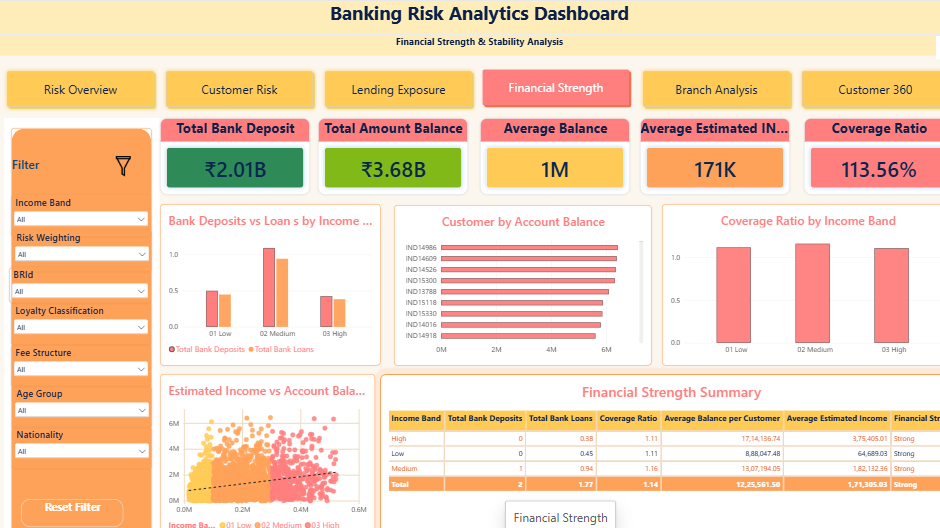

The dashboard page shown, as its layout file describes it:
{"tool":"powerbi","page":{"name":"Financial Strength","canvas":[1920,1080],"ordinal":3},"visuals":[{"type":"shape","box":[0,0,1920,110.9],"z":0},{"type":"pageNavigator","box":[9.8,133.5,1894.9,88.4],"z":1000},{"type":"shape","box":[12,236,310,844],"z":2000},{"type":"shape","box":[26.8,256,280.8,823.7],"z":3000},{"type":"clusteredColumnChart","title":"Bank Deposits vs Loan s by Income Band","fields":{"Category":["Banking.Income Band Ordered"],"Y":["Measure.Total Bank Deposits","Measure.Total Bank Loans"]},"box":[322.1,406.7,439.7,322.1],"z":4000},{"type":"columnChart","title":"Coverage Ratio by Income Band","fields":{"Category":["Banking.Income Band Ordered"],"Y":["Measure.Coverage Ratio"]},"box":[1323.4,406.7,582.2,322.1],"z":5000},{"type":"scatterChart","title":"Estimated Income vs Account Balance","fields":{"Series":["Banking.Income Band Ordered"],"X":["Banking.Estimated Income"],"Y":["Banking.Customer Account Balance"]},"box":[322.1,745.3,429.4,334.5],"z":6000},{"type":"clusteredBarChart","title":"Customer by Account Balance","fields":{"Category":["Banking.Client ID"],"Y":["Sum(Banking.Customer Account Balance)"]},"box":[788.6,408.8,514.1,320],"z":7000},{"type":"image","box":[210.6,311.7,76.4,41.3],"z":8000},{"type":"actionButton","title":"Reset Filter","box":[45.4,995.1,204.4,55.7],"z":9000},{"type":"textbox","box":[0,0,1920,70],"z":10000},{"type":"textbox","box":[28.9,291.1,274.6,61.9],"z":11000},{"type":"textbox","box":[0,70,1920,40],"z":12000},{"type":"slicer","fields":{"Values":["Banking.Nationality"]},"box":[28.9,850.6,278.7,82.6],"z":13000},{"type":"slicer","fields":{"Values":["Banking.Age Group"]},"box":[28.9,770.1,278.7,82.6],"z":14000},{"type":"slicer","fields":{"Values":["Banking.Income Band"]},"box":[26.8,388.1,278.7,82.6],"z":15000},{"type":"slicer","fields":{"Values":["Banking.Risk Weighting"]},"box":[28.9,458.3,278.7,82.6],"z":16000},{"type":"slicer","fields":{"Values":["Banking.Fee Structure"]},"box":[26.8,687.5,278.7,82.6],"z":17000},{"type":"slicer","fields":{"Values":["Banking.BRId"]},"box":[22.7,532.6,282.8,72.3],"z":18000},{"type":"slicer","fields":{"Values":["Banking.Loyalty Classification"]},"box":[26.8,604.9,278.7,82.6],"z":19000},{"type":"cardVisual","title":"Total Bank Deposit","fields":{"Data":["Measure.Total Bank Deposits"]},"box":[322.1,235.4,299.4,152.8],"z":20000},{"type":"cardVisual","title":"Total Amount Balance","fields":{"Data":["Measure.Total Account Balance"]},"box":[637.9,235.4,299.4,152.8],"z":21000},{"type":"cardVisual","title":"Average Balance ","fields":{"Data":["Measure.Average Balance per Customer"]},"box":[960,235.4,299.4,152.8],"z":22000},{"type":"cardVisual","title":"Average Estimated INCOME","fields":{"Data":["Measure.Average Estimated Income"]},"box":[1280,235.4,299.4,152.8],"z":23000},{"type":"cardVisual","title":"Coverage Ratio","fields":{"Data":["Measure.Coverage Ratio"]},"box":[1606.2,235.4,299.4,152.8],"z":24000},{"type":"pivotTable","title":"Financial Strength Summary","fields":{"Rows":["Banking.Income Band"],"Values":["Measure.Total Bank Deposits","Measure.Total Bank Loans","Measure.Coverage Ratio","Measure.Average Balance per Customer","Measure.Average Estimated Income","Measure.Financial Strength Status"]},"box":[761.8,745.3,1158.2,334.5],"z":25000}]}

Visuals, with their boxes in screenshot pixels (x1, y1, x2, y2), scaled from the page's 1920x1080 canvas onto the 940x528 screenshot:
shape: x1=0 y1=0 x2=939 y2=54
pageNavigator: x1=5 y1=65 x2=933 y2=108
shape: x1=6 y1=115 x2=158 y2=527
shape: x1=13 y1=125 x2=151 y2=527
"Bank Deposits vs Loan s by Income Band" clusteredColumnChart: x1=158 y1=199 x2=373 y2=356
"Coverage Ratio by Income Band" columnChart: x1=648 y1=199 x2=933 y2=356
"Estimated Income vs Account Balance" scatterChart: x1=158 y1=364 x2=368 y2=527
"Customer by Account Balance" clusteredBarChart: x1=386 y1=200 x2=638 y2=356
image: x1=103 y1=152 x2=141 y2=173
"Reset Filter" actionButton: x1=22 y1=486 x2=122 y2=514
textbox: x1=0 y1=0 x2=939 y2=34
textbox: x1=14 y1=142 x2=149 y2=173
textbox: x1=0 y1=34 x2=939 y2=54
slicer - Banking.Nationality: x1=14 y1=416 x2=151 y2=456
slicer - Banking.Age Group: x1=14 y1=376 x2=151 y2=417
slicer - Banking.Income Band: x1=13 y1=190 x2=150 y2=230
slicer - Banking.Risk Weighting: x1=14 y1=224 x2=151 y2=264
slicer - Banking.Fee Structure: x1=13 y1=336 x2=150 y2=376
slicer - Banking.BRId: x1=11 y1=260 x2=150 y2=296
slicer - Banking.Loyalty Classification: x1=13 y1=296 x2=150 y2=336
"Total Bank Deposit" cardVisual: x1=158 y1=115 x2=304 y2=190
"Total Amount Balance" cardVisual: x1=312 y1=115 x2=459 y2=190
"Average Balance " cardVisual: x1=470 y1=115 x2=617 y2=190
"Average Estimated INCOME" cardVisual: x1=627 y1=115 x2=773 y2=190
"Coverage Ratio" cardVisual: x1=786 y1=115 x2=933 y2=190
"Financial Strength Summary" pivotTable: x1=373 y1=364 x2=939 y2=527
